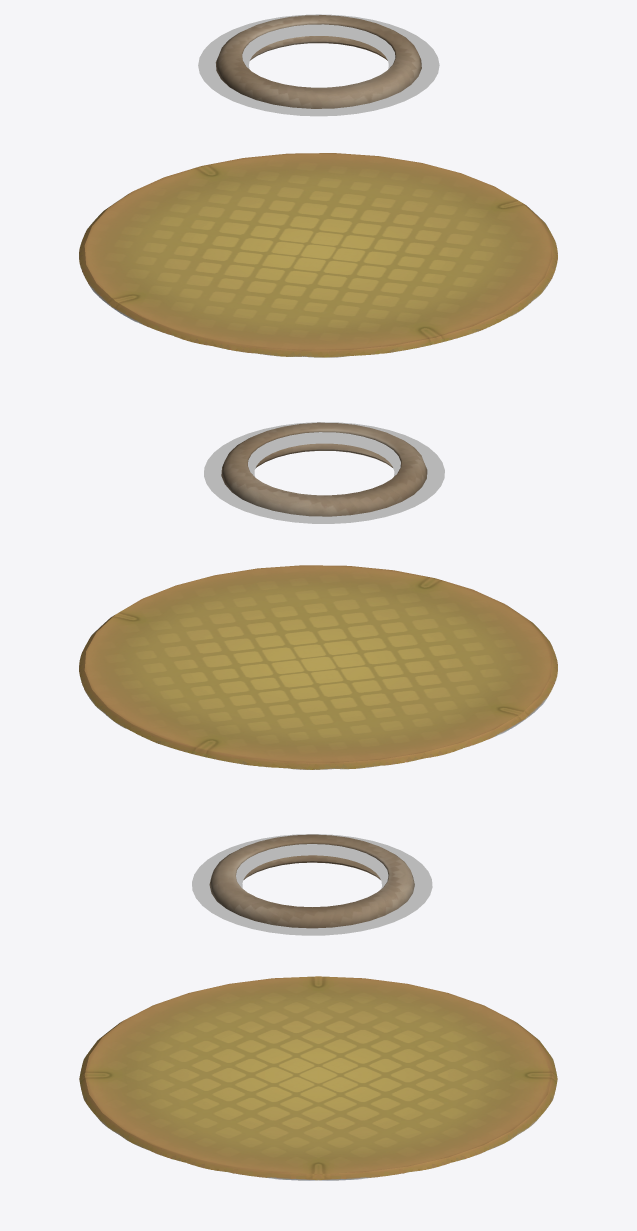
Rendered from pref_TPC_v2_NeutralScoreArea03_yellow_amp_lv3.fbx.
3 views of the same model, one above another, from view 1: azimuth 30°, elevation 25°; view 2: azimuth 150°, elevation 25°; view 3: azimuth 270°, elevation 25° (orthographic).
Visible parts, largest first — view 1: sm_prop_platform06a_lv3, sm_prop_platform06b_lv3, glow; view 2: sm_prop_platform06a_lv3, sm_prop_platform06b_lv3, glow; view 3: sm_prop_platform06a_lv3, sm_prop_platform06b_lv3, glow.
Boxes of the visible parts, x1=… form: sm_prop_platform06a_lv3: x1=79, y1=153, x2=557, y2=357; sm_prop_platform06b_lv3: x1=215, y1=15, x2=421, y2=108; glow: x1=198, y1=14, x2=439, y2=116; sm_prop_platform06a_lv3: x1=79, y1=565, x2=557, y2=769; sm_prop_platform06b_lv3: x1=221, y1=422, x2=427, y2=516; glow: x1=204, y1=422, x2=444, y2=523; sm_prop_platform06a_lv3: x1=79, y1=976, x2=557, y2=1180; sm_prop_platform06b_lv3: x1=209, y1=834, x2=414, y2=928; glow: x1=192, y1=834, x2=432, y2=935.
Size of the model in its own units: 7.46 by 2.88 by 7.46.
Materials: 2 (1 with a texture image).
